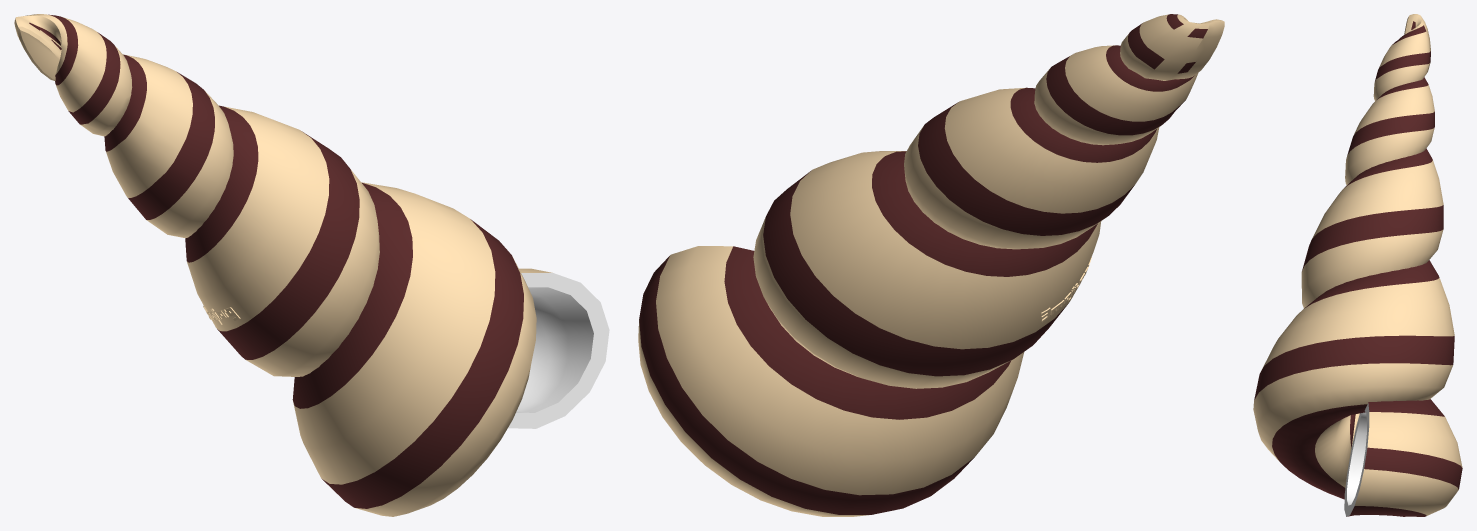
Rendered from spiral_shell.fbx.
3 renders of one model, left to right at view 1: azimuth 30°, elevation 25°; view 2: azimuth 150°, elevation 25°; view 3: azimuth 270°, elevation 25°, orthographic. The views are drawn at different scales.
Parts seen in each view (by area): view 1: Circle.1986; view 2: Circle.1986; view 3: Circle.1986.
Part boxes in pixels (bbox=[...]): Circle.1986: bbox=[14, 14, 609, 516]; Circle.1986: bbox=[638, 14, 1224, 516]; Circle.1986: bbox=[1253, 14, 1462, 516].
Bounding box in the file's own units: 218 × 203 × 102.
Materials: 1 (1 with a texture image).
